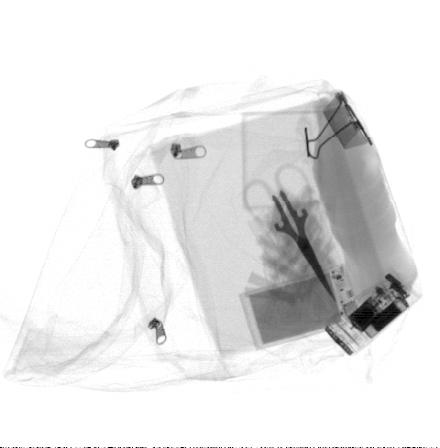Powerbank: (237, 262, 360, 352)
Scissors: (240, 163, 339, 305)
